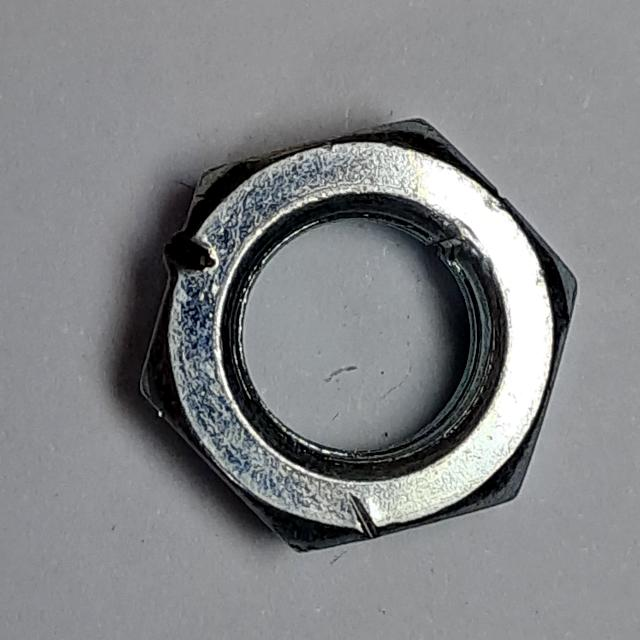Scratches: (130, 98, 592, 578)
